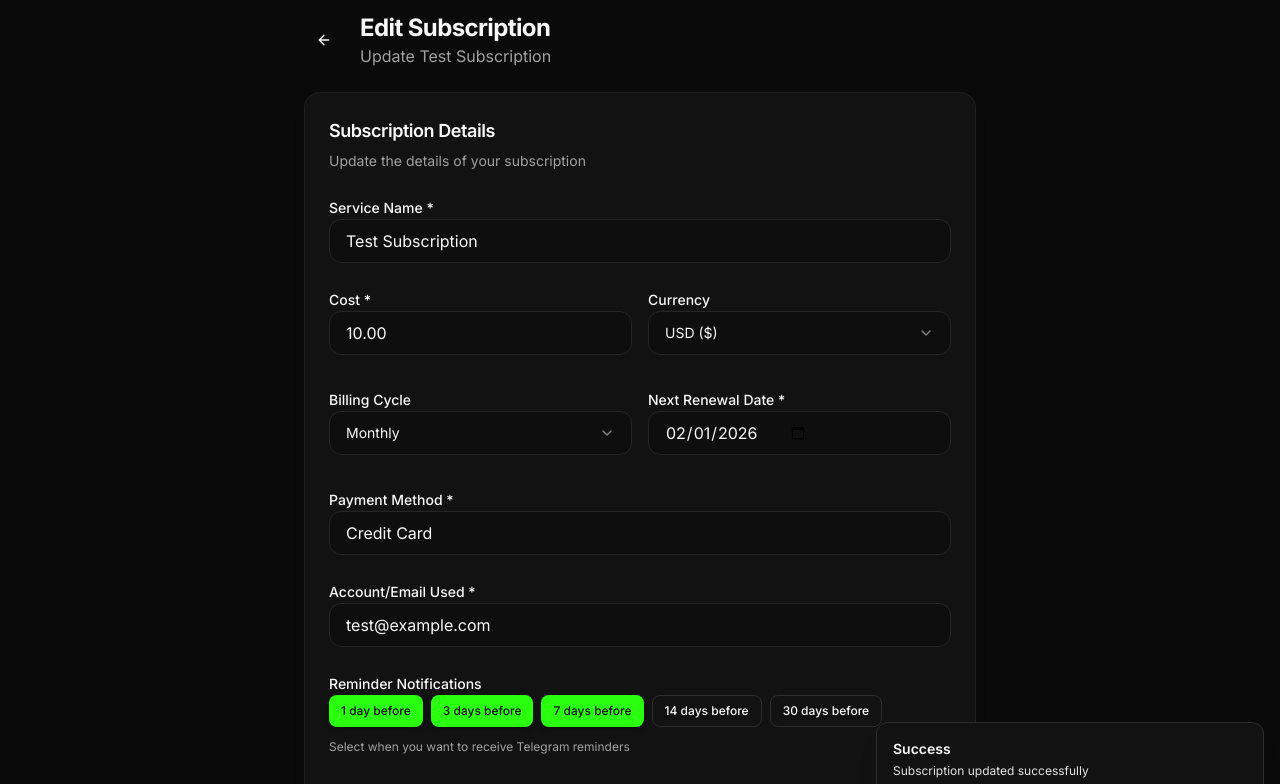
it: SubscriptionEditPage › Custom Interval Days › clears customIntervalDays when switching away from custom billing cycle
Click the dropdown labelled "Monthly".
click(373, 432)  # box [329,411,632,455]
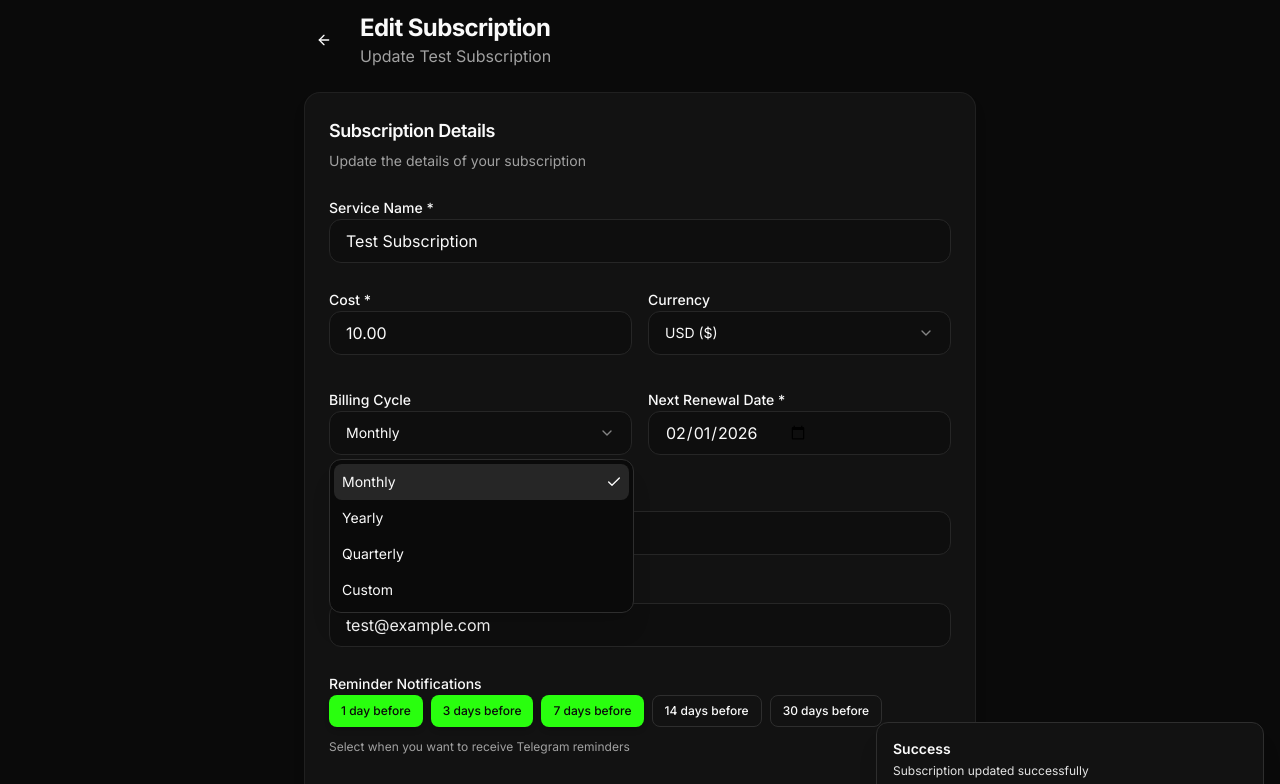
Click the option "Custom".
click(368, 590)  # box [342,581,393,598]
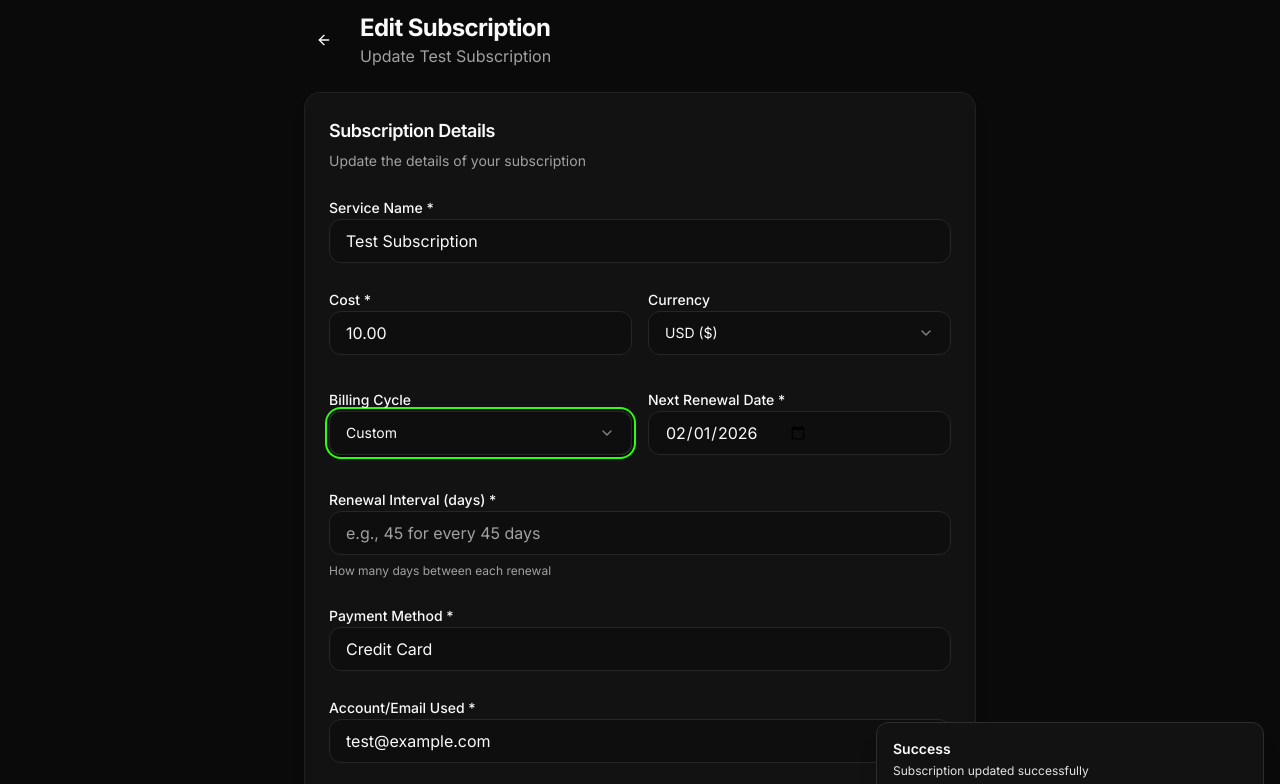
Type "45" into the number field labelled "Renewal Interval (days) *".
click(640, 533); type("45")  # box [329,511,951,555]
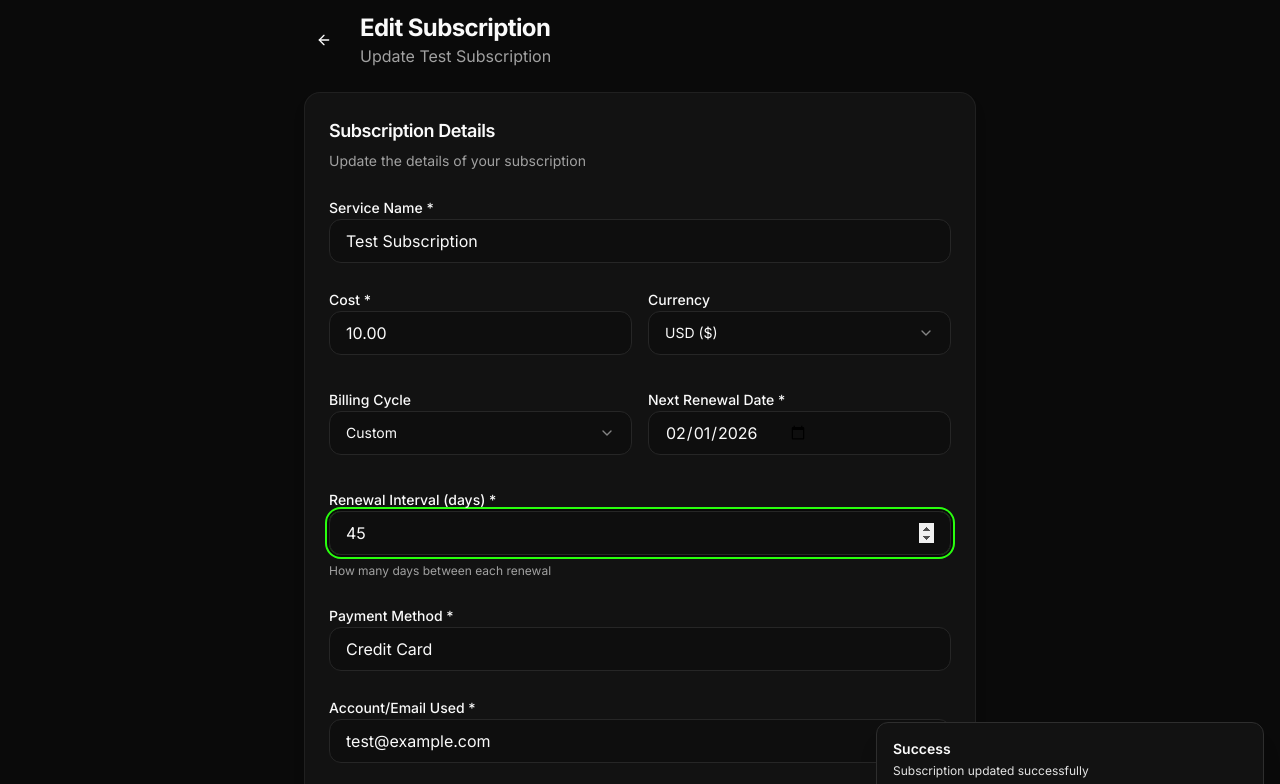
Click the dropdown labelled "Custom".
click(372, 432)  # box [329,411,632,455]
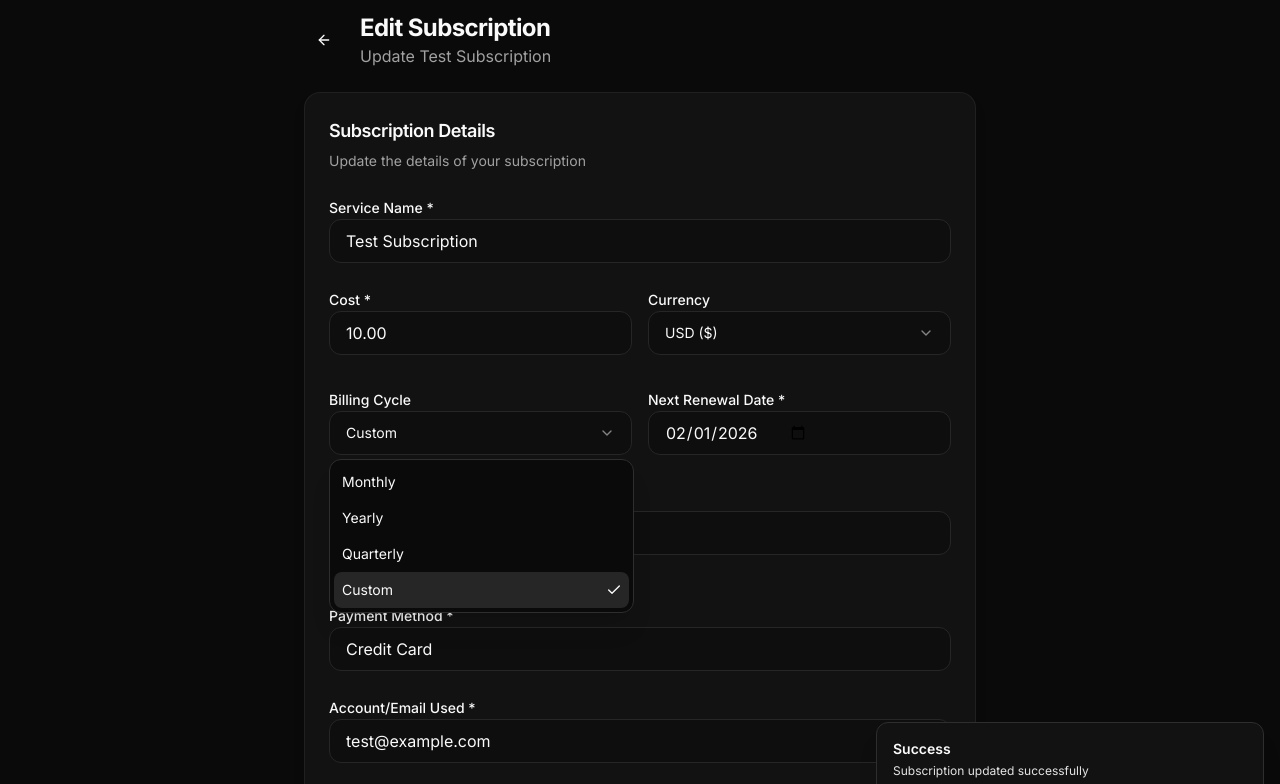
Click the option "Monthly".
click(369, 482)  # box [342,473,396,490]
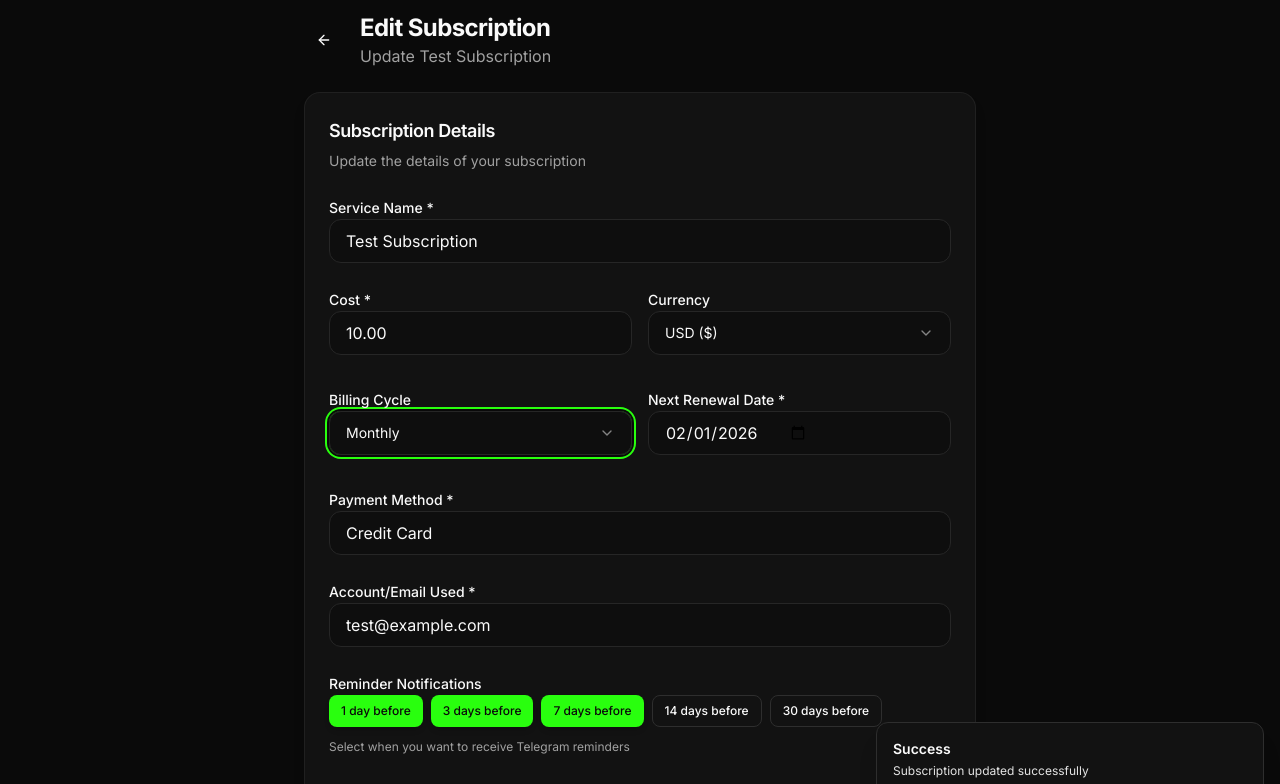
Expected: the label labelled "Renewal Interval (days)" is gone
